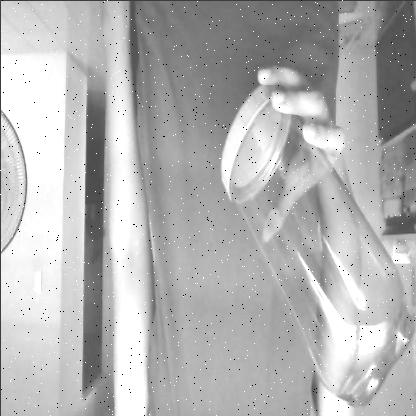Plastic Bottle: (217, 77, 415, 405)
